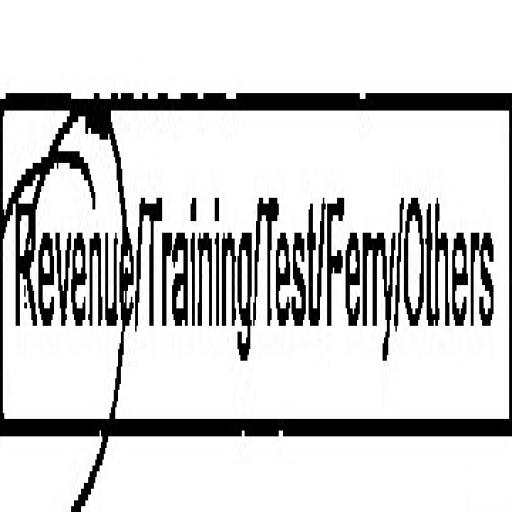check: (1, 0, 138, 512)
